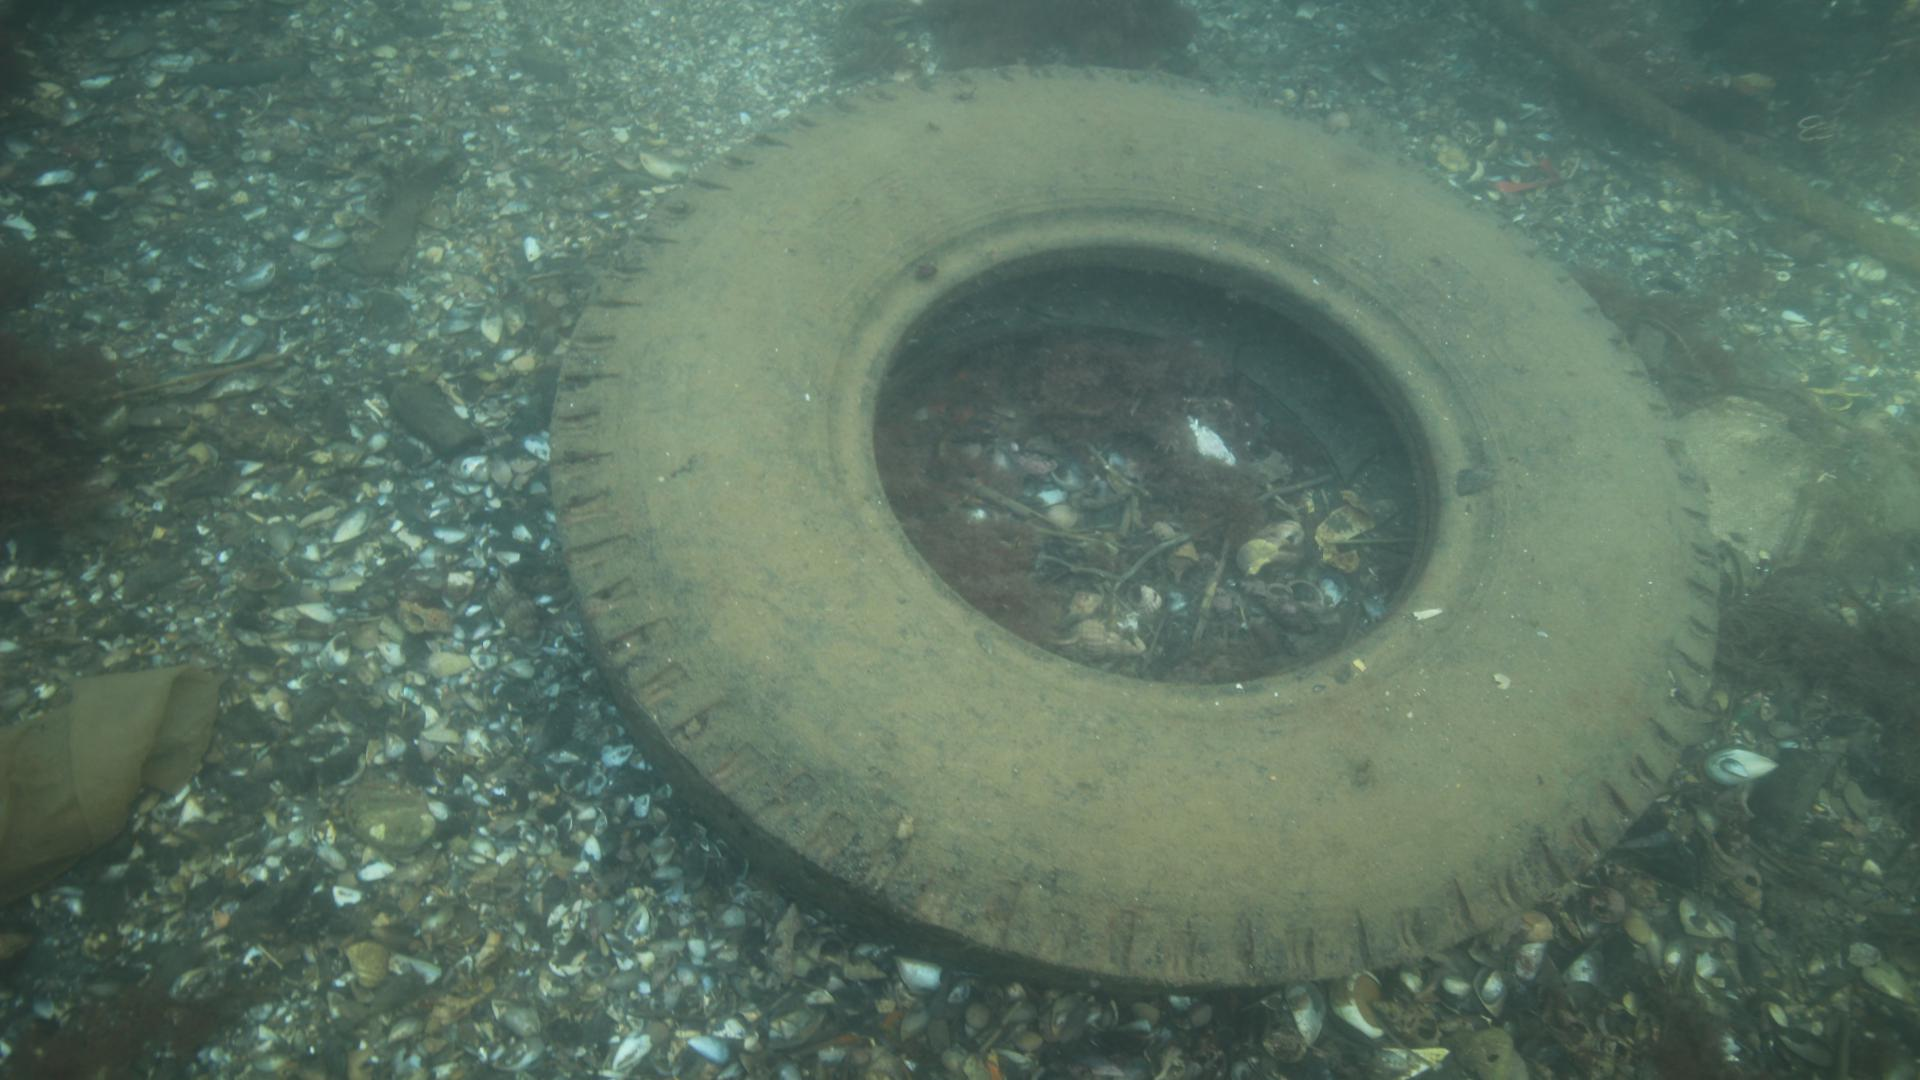rope: (1480, 1, 1920, 265)
tire: (547, 59, 1724, 1002)
